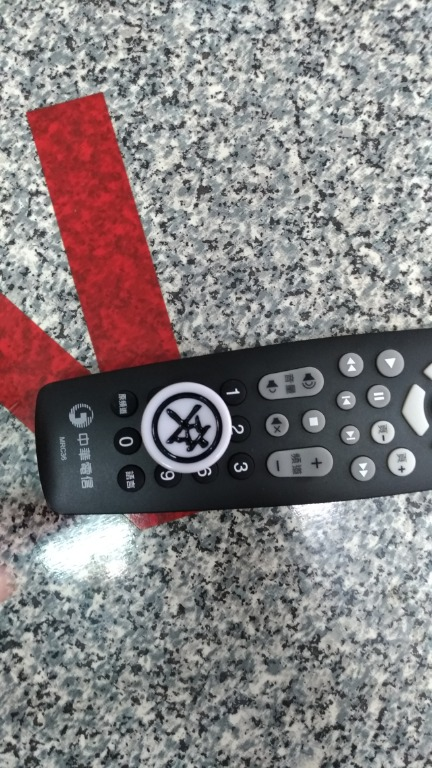b-pawn: (122, 373, 261, 495)
